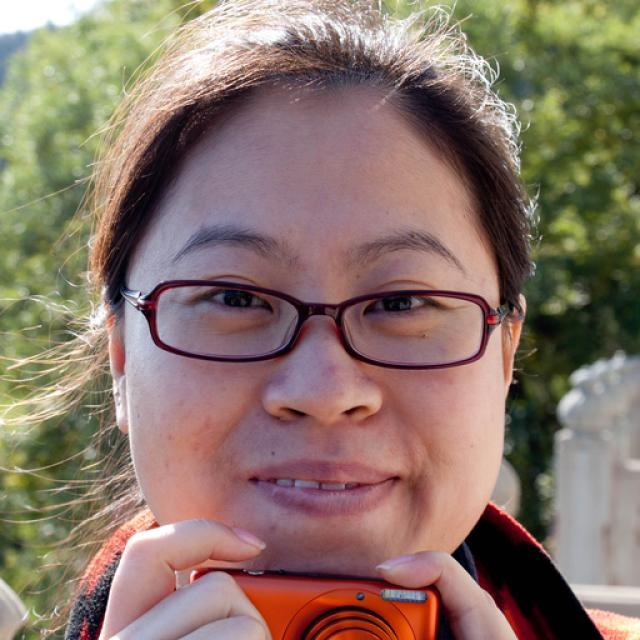happy: (128, 79, 506, 574)
